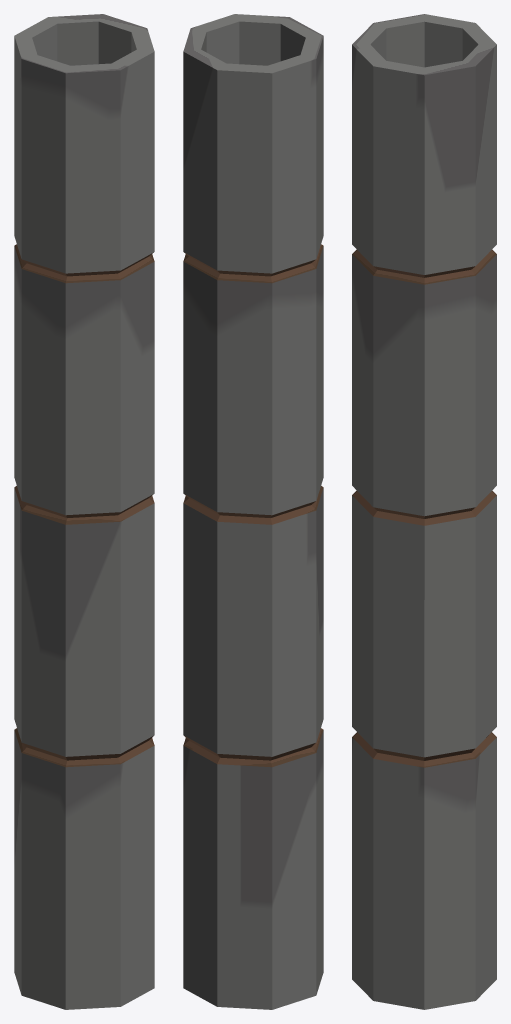
File: SM_Prop_Pipe_Concrete_02.glb
3 views of the same model, side by side, from view 1: azimuth 30°, elevation 25°; view 2: azimuth 150°, elevation 25°; view 3: azimuth 270°, elevation 25° (orthographic).
Parts seen in each view (by area): view 1: SM_Prop_Pipe_Concrete_02; view 2: SM_Prop_Pipe_Concrete_02; view 3: SM_Prop_Pipe_Concrete_02.
Part boxes in pixels (left/top/right/bottom): SM_Prop_Pipe_Concrete_02: left=14, top=14, right=154, bottom=1009; SM_Prop_Pipe_Concrete_02: left=183, top=14, right=323, bottom=1009; SM_Prop_Pipe_Concrete_02: left=352, top=14, right=496, bottom=1009.
Bounding box in the file's own units: 0.6439 × 4.58 × 0.6439.
1 material, 1 textured.
